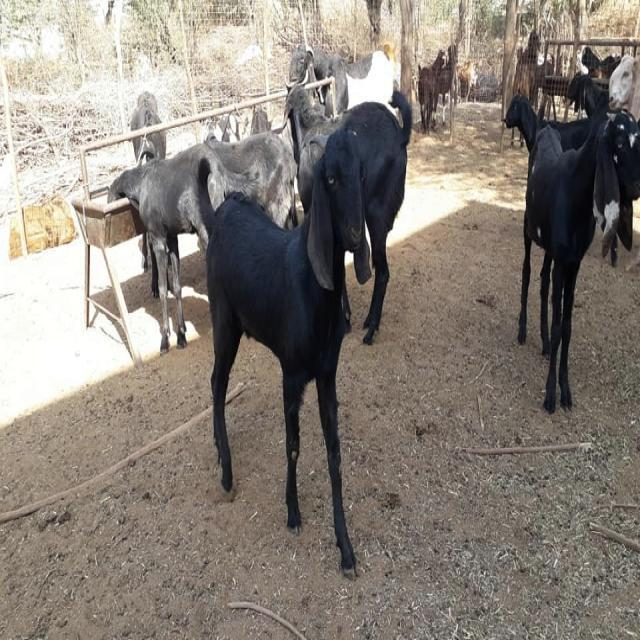Goat: (205, 126, 373, 576), (107, 122, 299, 353), (503, 90, 640, 413), (283, 78, 413, 345), (130, 90, 167, 295)
